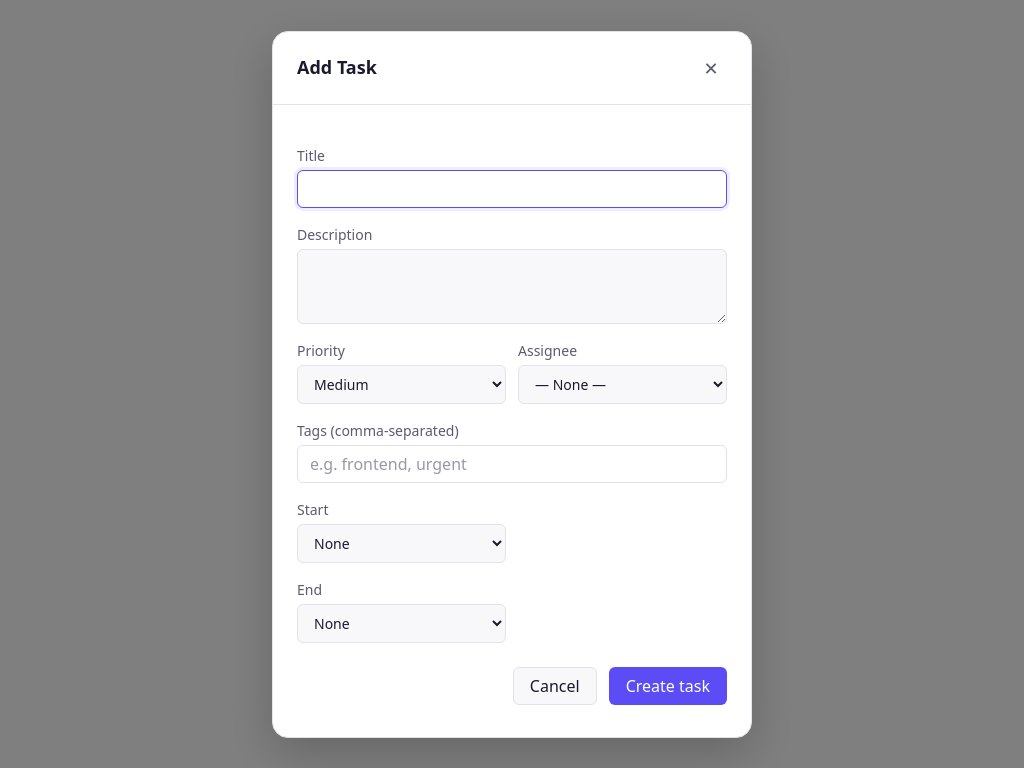
Test: AddTaskModal › shows error when createTask fails
In the field labelled "Title": (512, 188) [297, 170, 727, 208], type "Bad Task"
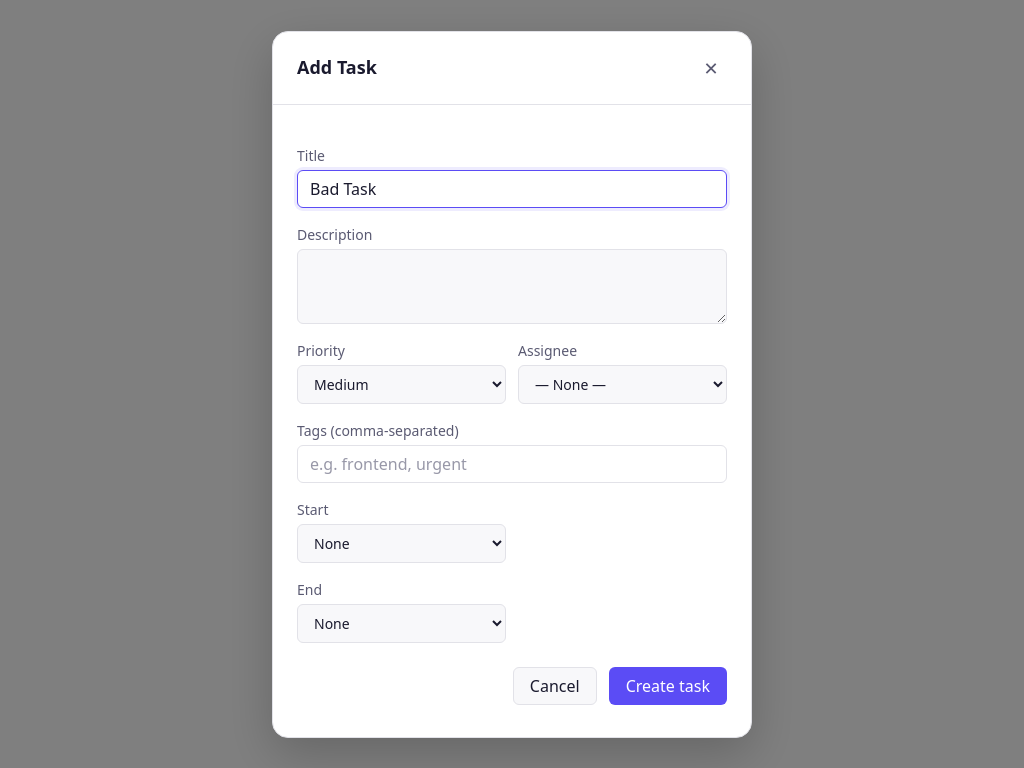
Click the button "Create task": (668, 686) [609, 666, 727, 704]
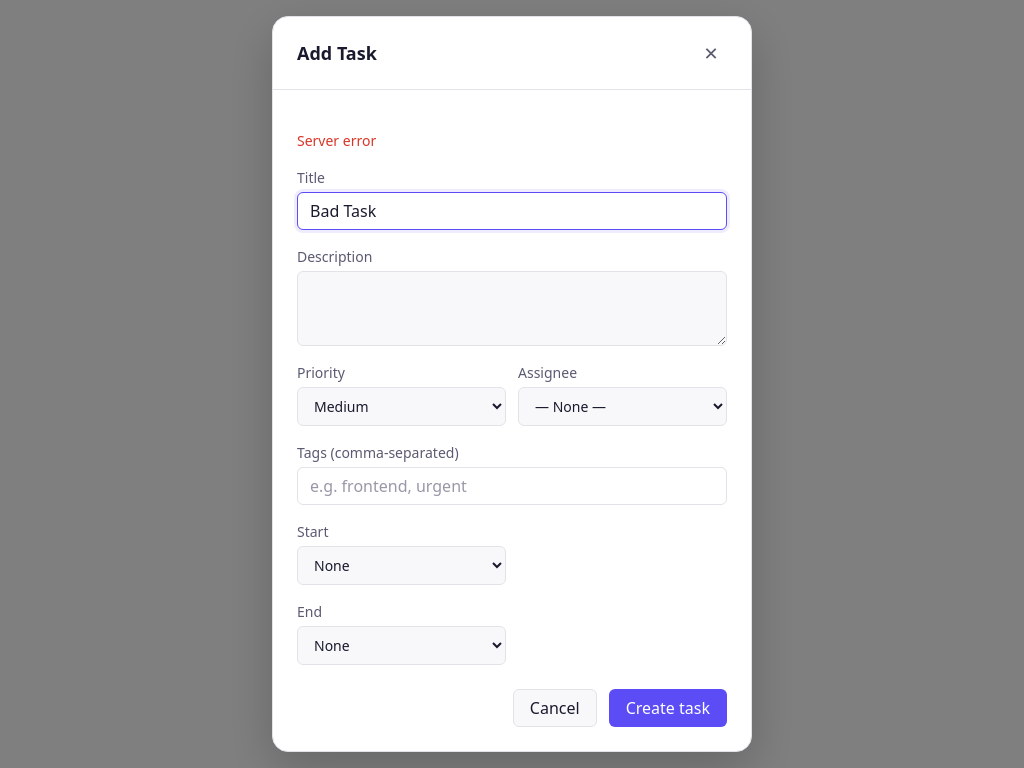
expect the text "Server error" is shown: met, box [297, 131, 376, 150]
